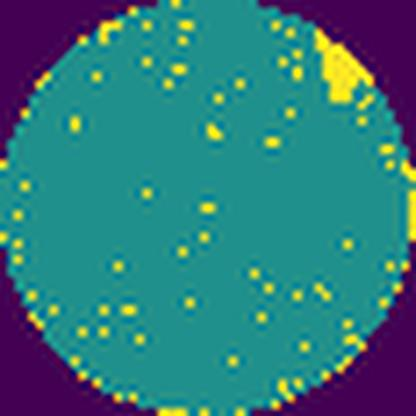Edge-Loc: (312, 25, 378, 107)
